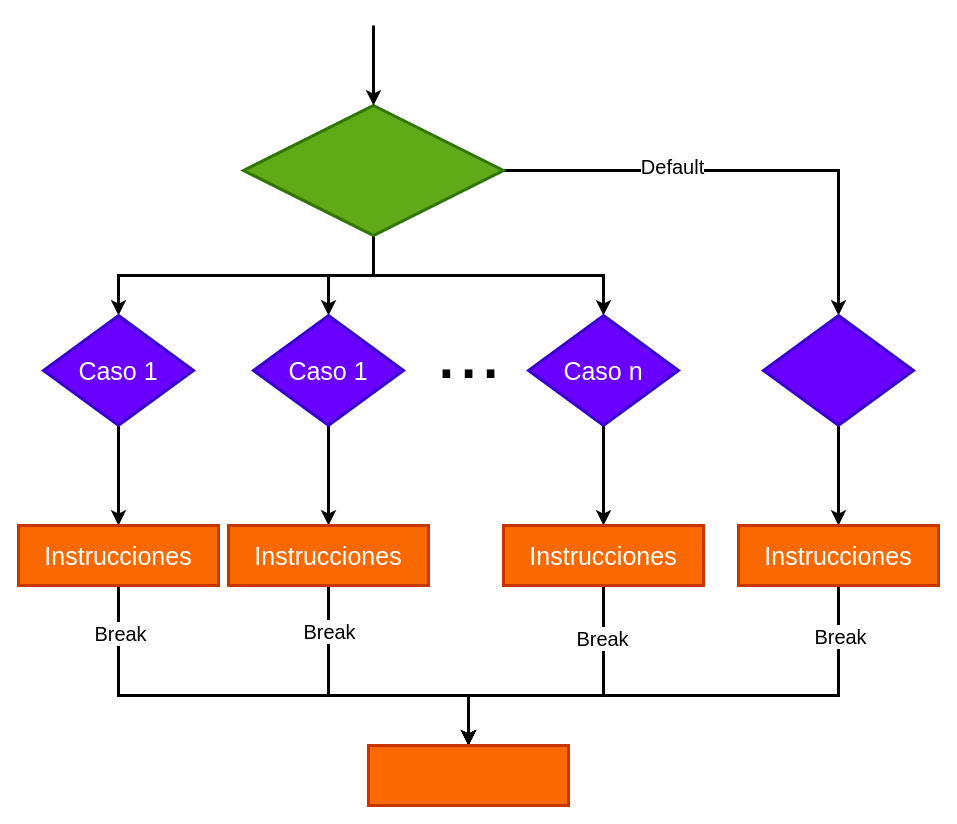
This 957x824 diagram has some shape labels left out. Each missing label, with the box of its shape:
Bloque instrucciones: (366, 744, 570, 806)
Condición: (242, 104, 504, 236)
Otro caso: (762, 314, 914, 426)
